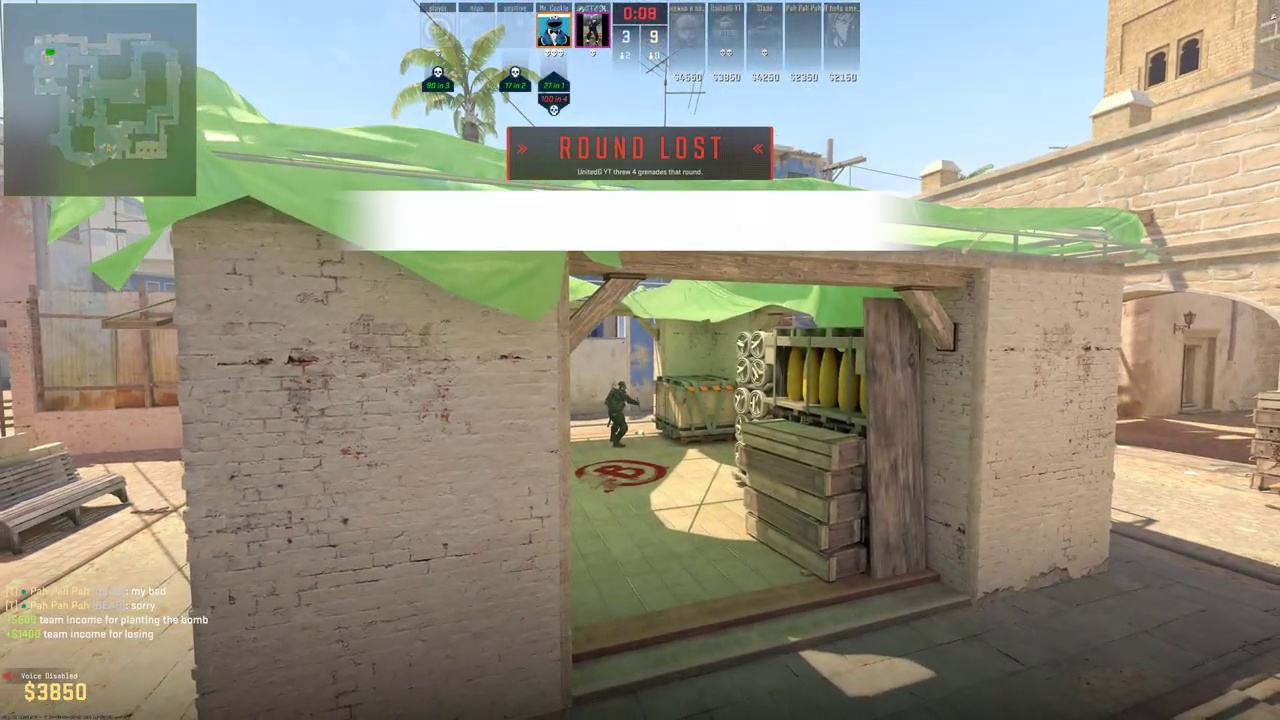CT: (606, 382, 629, 447)
